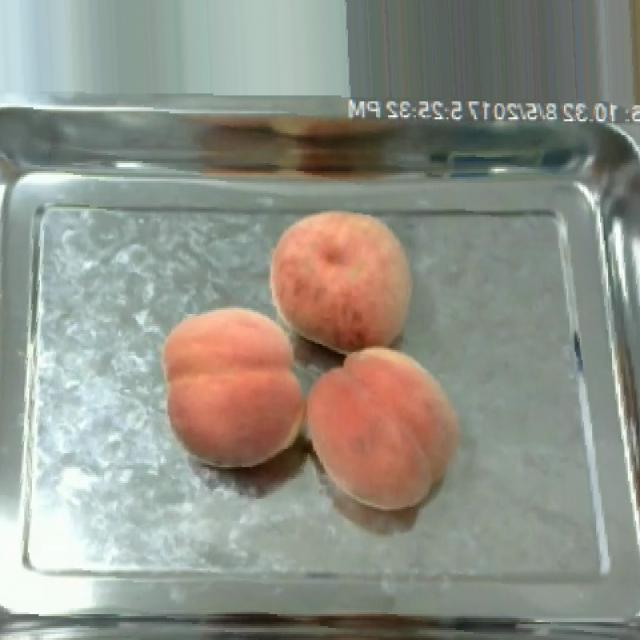Fruit: (297, 340, 472, 519), (156, 300, 313, 475), (262, 202, 422, 360), (622, 0, 640, 115)
